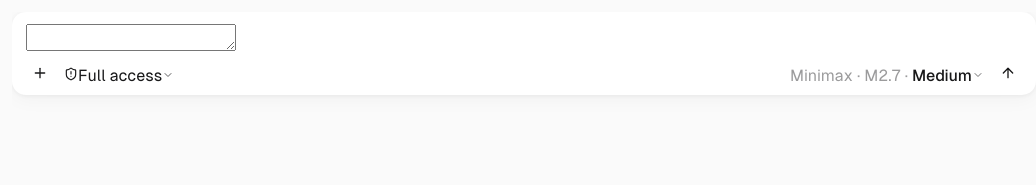
it: Composer › shows only effective enabled explicit-eligible named Skills
Type "$" into the text box named "message".
click(131, 38); type("$")  # box [26,24,236,51]
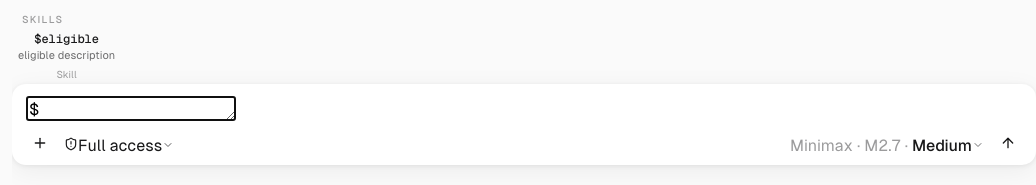
expect the text "$eligible" is shown: met, box [34,31,99,47]
